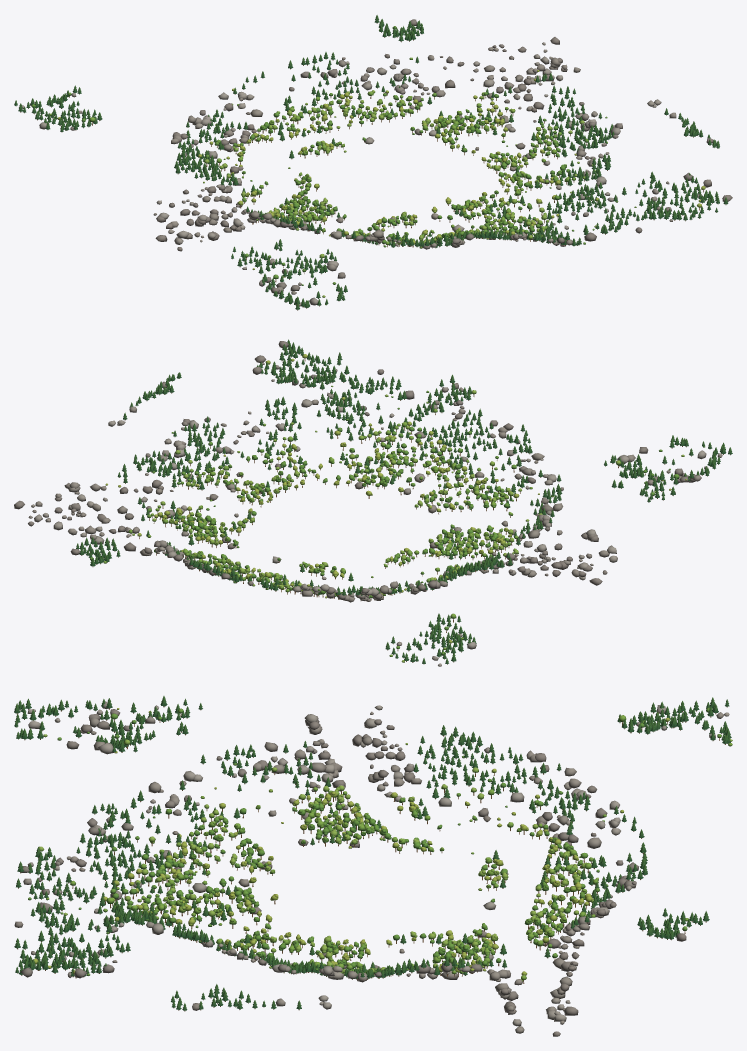
Rendered from scatter.glb.
3 renders of one model, top to bottom at view 1: azimuth 30°, elevation 25°; view 2: azimuth 150°, elevation 25°; view 3: azimuth 270°, elevation 25°, orthographic. The views are drawn at different scales.
Parts seen in each view (by area): view 1: scatter; view 2: scatter; view 3: scatter.
Boxes of the visible parts, <box> form: scatter: <box>14,15,732,310</box>; scatter: <box>14,339,732,666</box>; scatter: <box>14,696,732,1036</box>.
Size of the model in its own units: 194 by 16.59 by 193.
